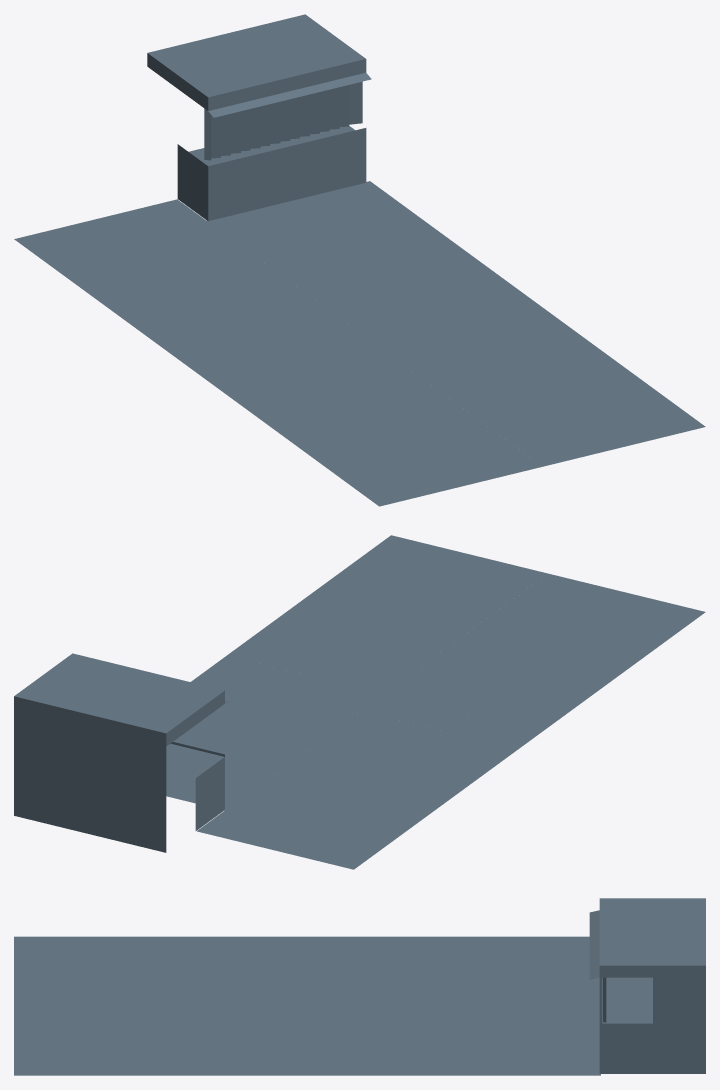
The model's file is lvl0.glb.
The picture shows the model from 3 angles, top to bottom: view 1: azimuth 30°, elevation 25°; view 2: azimuth 150°, elevation 25°; view 3: azimuth 270°, elevation 25°; orthographic projection. The views are drawn at different scales.
Bounding box in the file's own units: 8 × 2.9 × 16.8.
